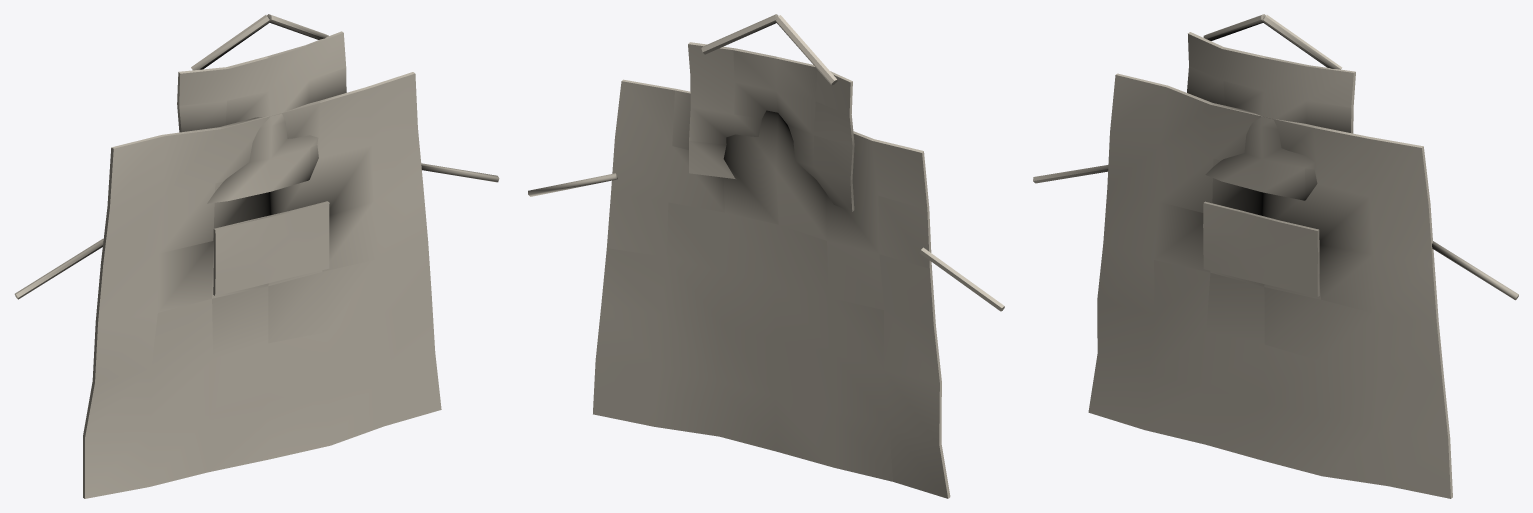
The model's file is apron.glb.
3 renders of one model, left to right at view 1: azimuth 30°, elevation 25°; view 2: azimuth 150°, elevation 25°; view 3: azimuth 330°, elevation 25°, orthographic.
Visible parts, largest first — view 1: skirt, bib, pocket, neck_-1, tie_-1, tie_1; view 2: skirt, bib, neck_-1, tie_-1, neck_1, tie_1; view 3: skirt, bib, pocket, neck_1, tie_1, tie_-1, neck_-1.
Boxes of the visible parts, x1,y1,x2,y2 form: skirt: (83,72,441,498); bib: (177,31,346,203); pocket: (213,201,329,295); neck_-1: (191,15,270,70); tie_-1: (14,239,103,299); tie_1: (421,163,499,182); skirt: (593,79,950,498); bib: (688,42,854,211); neck_-1: (775,15,837,85); tie_-1: (919,247,1004,311); neck_1: (701,14,778,54); tie_1: (528,173,617,196); skirt: (1088,73,1452,498); bib: (1187,32,1355,200); pocket: (1203,201,1319,296); neck_1: (1262,15,1342,69); tie_1: (1432,241,1518,300); tie_-1: (1033,165,1108,183); neck_-1: (1203,14,1265,40).
Size of the model in its own units: 0.7636 by 0.6697 by 0.0494.
